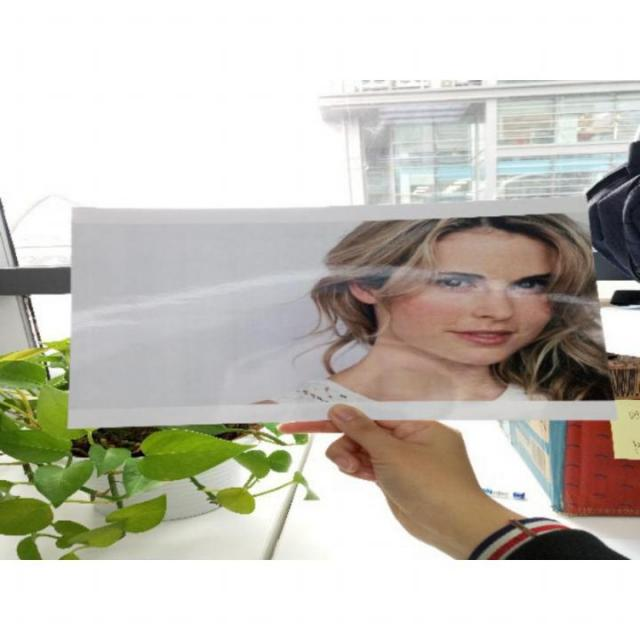photo: (60, 191, 615, 441)
